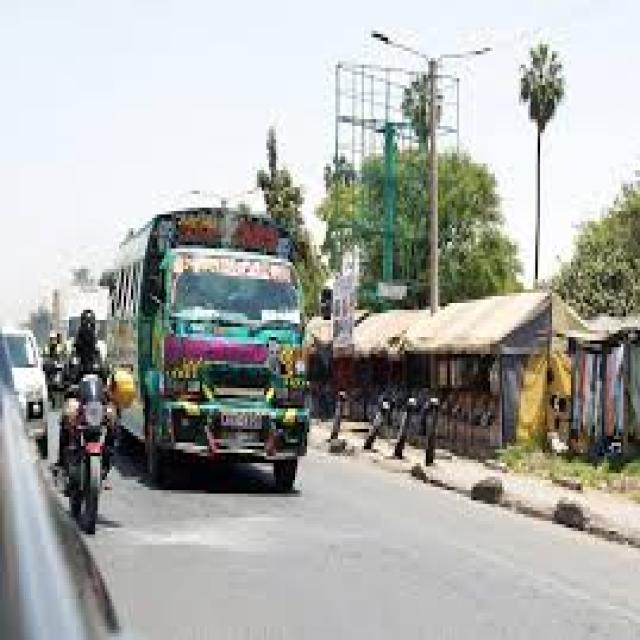bodaboda: (63, 371, 139, 528)
bus: (146, 210, 324, 489)
